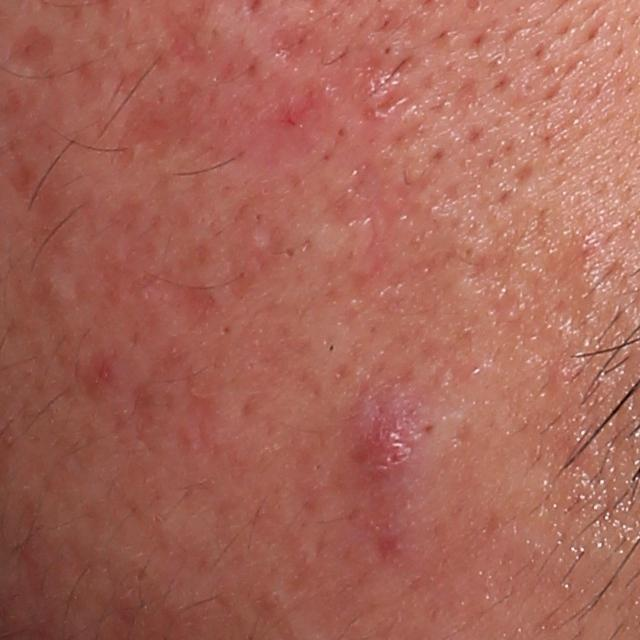atrophic_scar: (312, 156, 436, 303), (269, 19, 423, 125), (0, 23, 56, 68)
papule: (341, 400, 423, 482)
